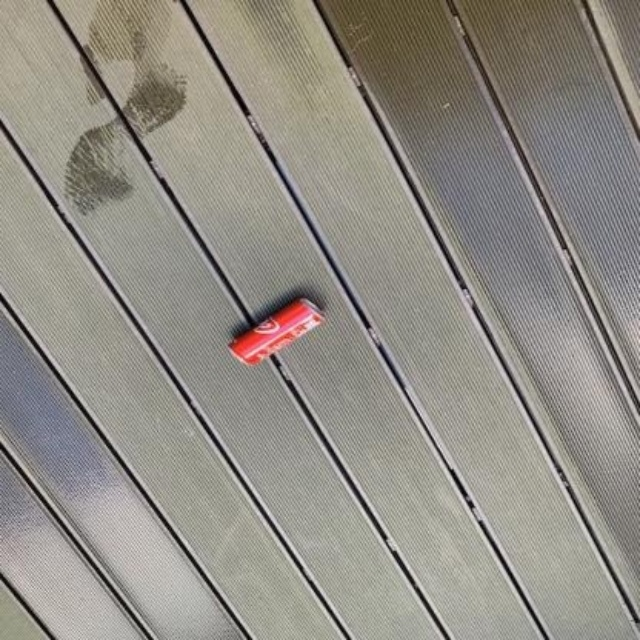trash: (229, 298, 323, 363)
